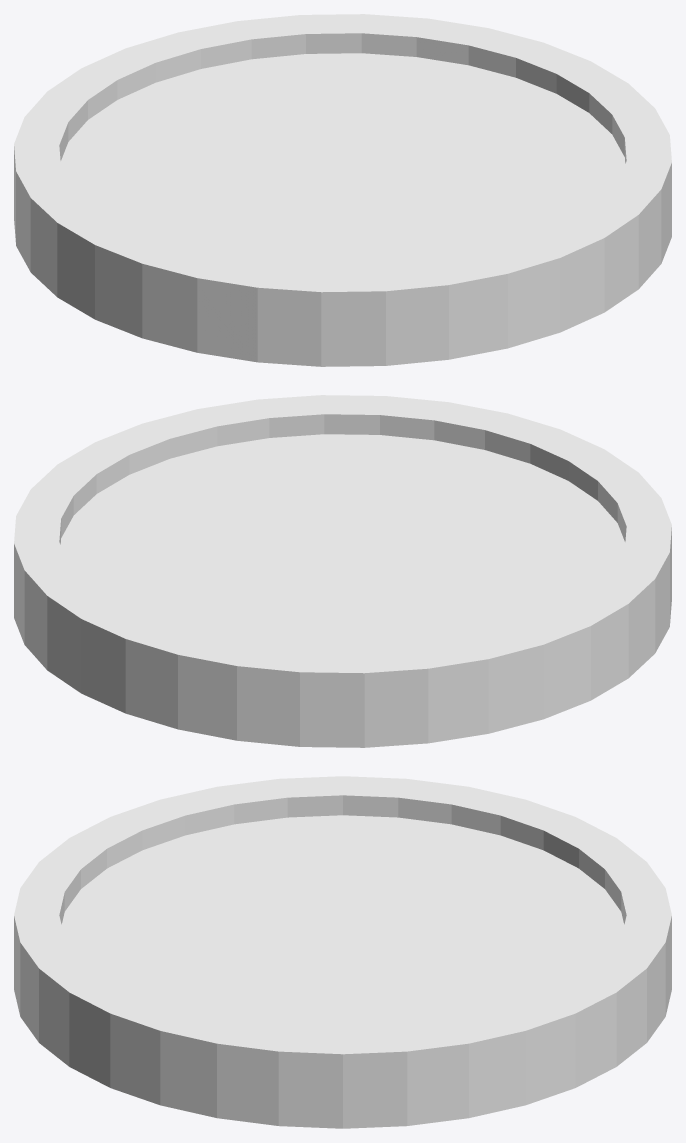
The model's file is Coin1n.fbx.
The picture shows the model from 3 angles, top to bottom: view 1: azimuth 30°, elevation 25°; view 2: azimuth 150°, elevation 25°; view 3: azimuth 270°, elevation 25°; orthographic projection.
Parts seen in each view (by area): view 1: Coin; view 2: Coin; view 3: Coin.
Boxes of the visible parts, left/top/right/bottom form: Coin: left=14, top=14, right=671, bottom=366; Coin: left=14, top=395, right=671, bottom=747; Coin: left=14, top=776, right=671, bottom=1128.
Bounding box in the file's own units: 20 × 2.5 × 20.
